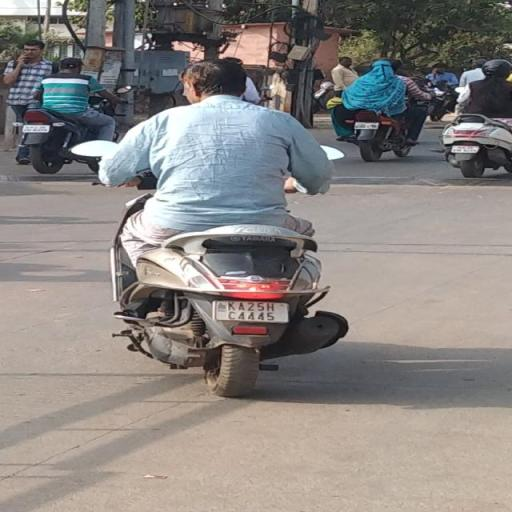bike: (66, 54, 354, 400)
numberplate: (215, 298, 288, 322)
withouthelmet: (188, 59, 246, 98)
